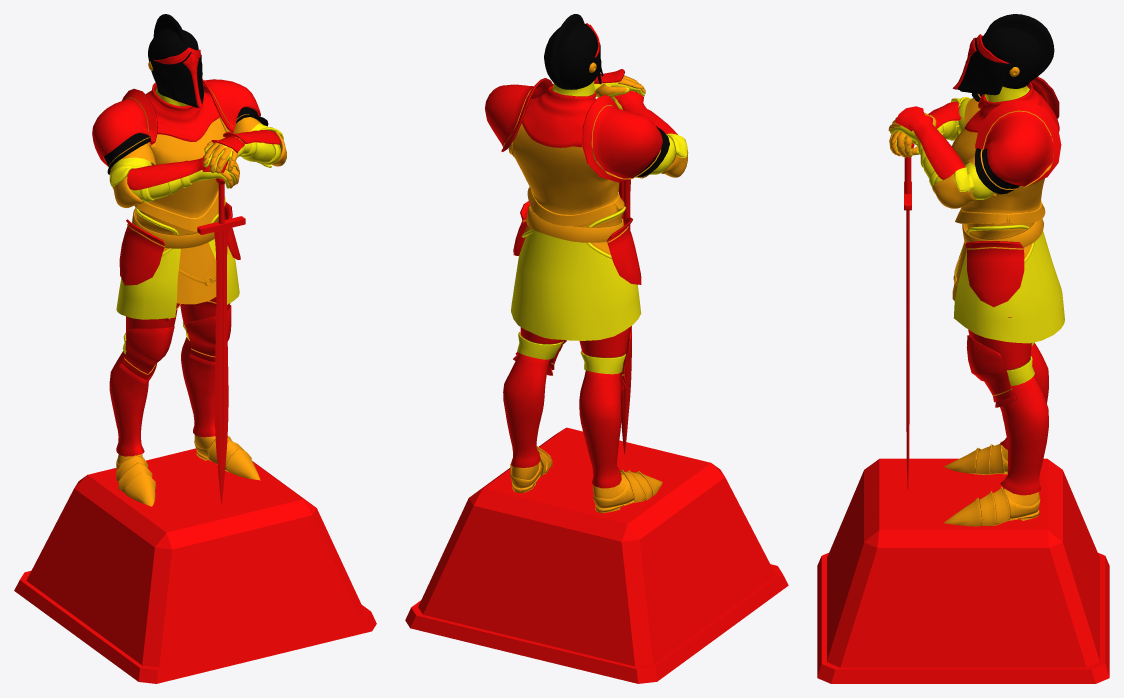
File: KnightArmorStatue.fbx
The picture shows the model from 3 angles, left to right: view 1: azimuth 30°, elevation 25°; view 2: azimuth 150°, elevation 25°; view 3: azimuth 270°, elevation 25°; orthographic projection. The views are drawn at different scales.
Parts seen in each view (by area): view 1: Knight_Armor_Statue; view 2: Knight_Armor_Statue; view 3: Knight_Armor_Statue.
Part boxes in pixels (left/top/right/bottom): Knight_Armor_Statue: left=14, top=14, right=376, bottom=683; Knight_Armor_Statue: left=405, top=14, right=788, bottom=683; Knight_Armor_Statue: left=817, top=14, right=1109, bottom=683.
Bounding box in the file's own units: 0.9159 × 2.1 × 0.9159.
